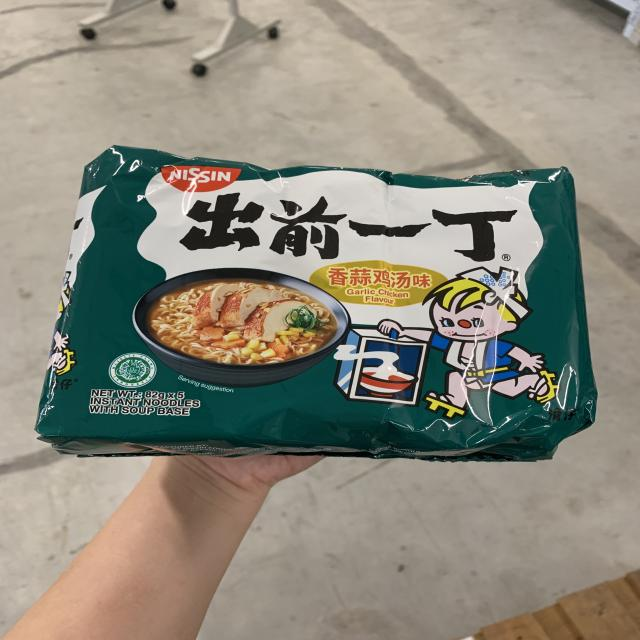object_name: (71, 156, 575, 454)
